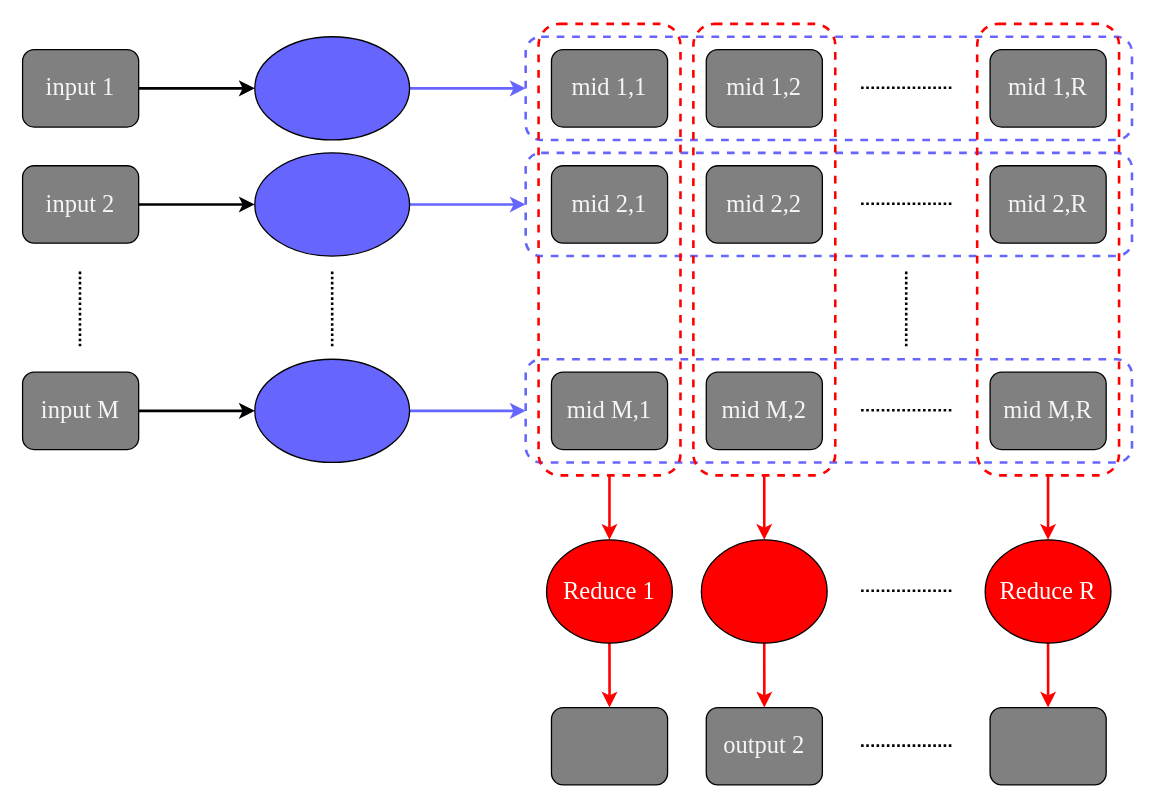
The diagram is 1156 pixels wide and 808 high, and some of its shapes have lost their labels. Here are the shapes that lost their labels. From the top down, the box of each, then its label:
(253, 35, 410, 140): Map 1
(253, 152, 410, 256): Map 2
(253, 358, 410, 462): Map M
(700, 539, 827, 643): Reduce 2
(550, 706, 668, 785): output 1
(989, 706, 1106, 785): output R
